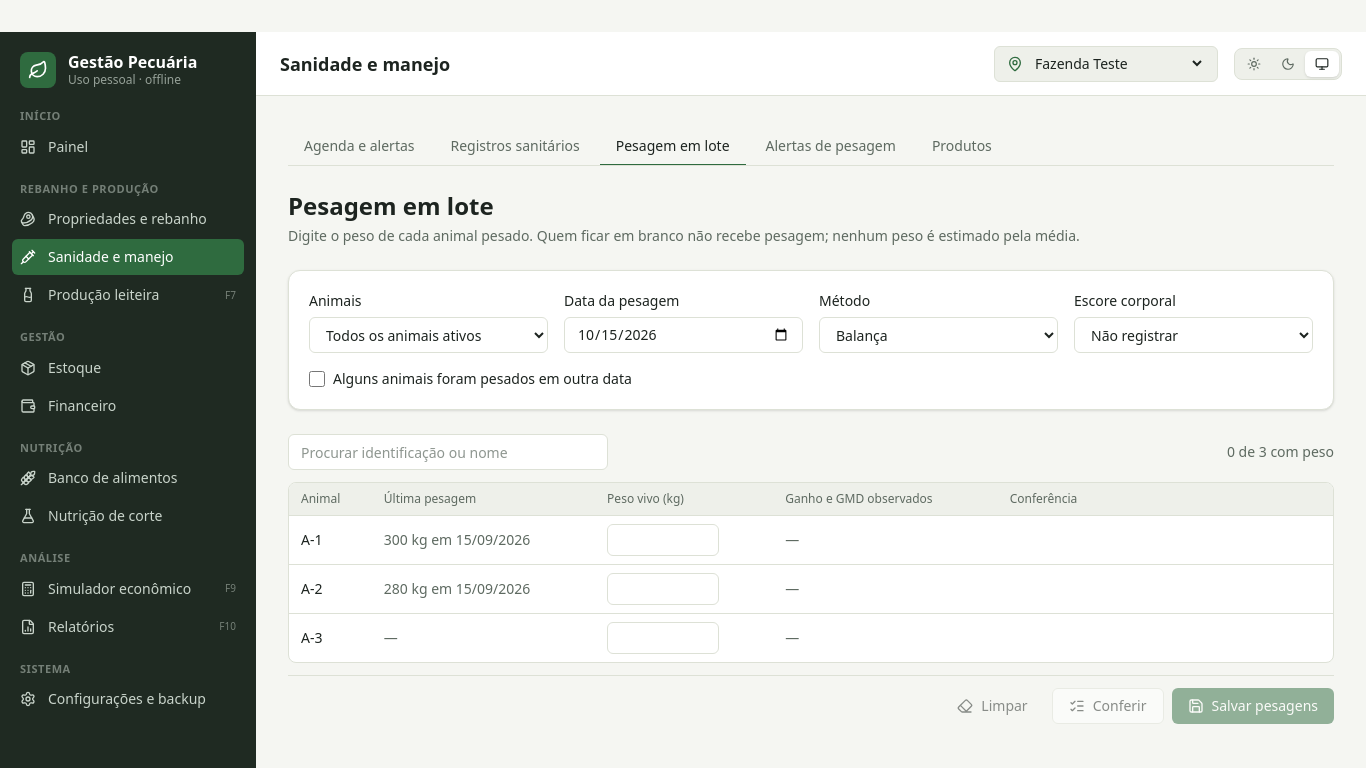
Test case: pesagem em lote › recusa peso inválido antes de enviar
The image size is (1366, 768).
(page scrolled)
In the field named "Peso de A-2": (663, 589) x1=607 y1=573 x2=719 y2=605, type "1.050"
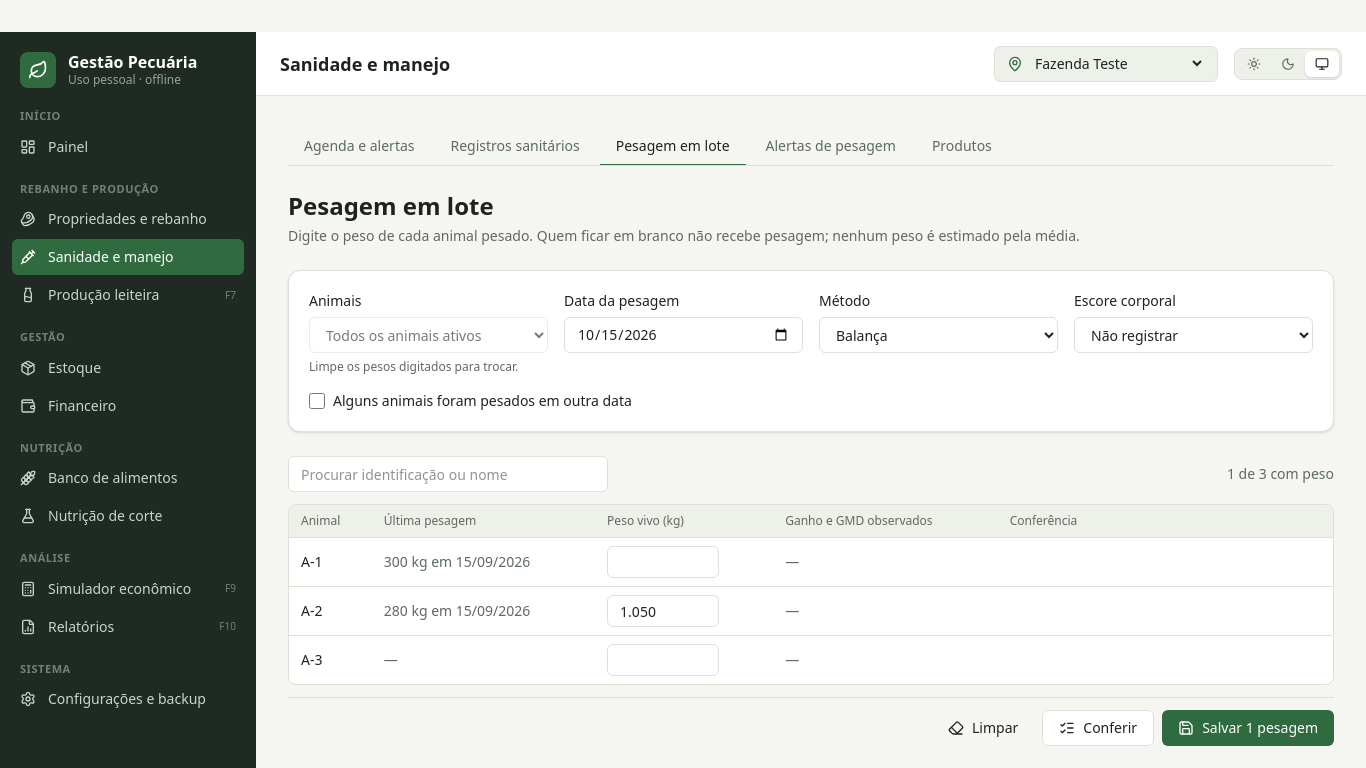
Click the button "Salvar 1 pesagem": (1248, 728) x1=1162 y1=710 x2=1334 y2=746
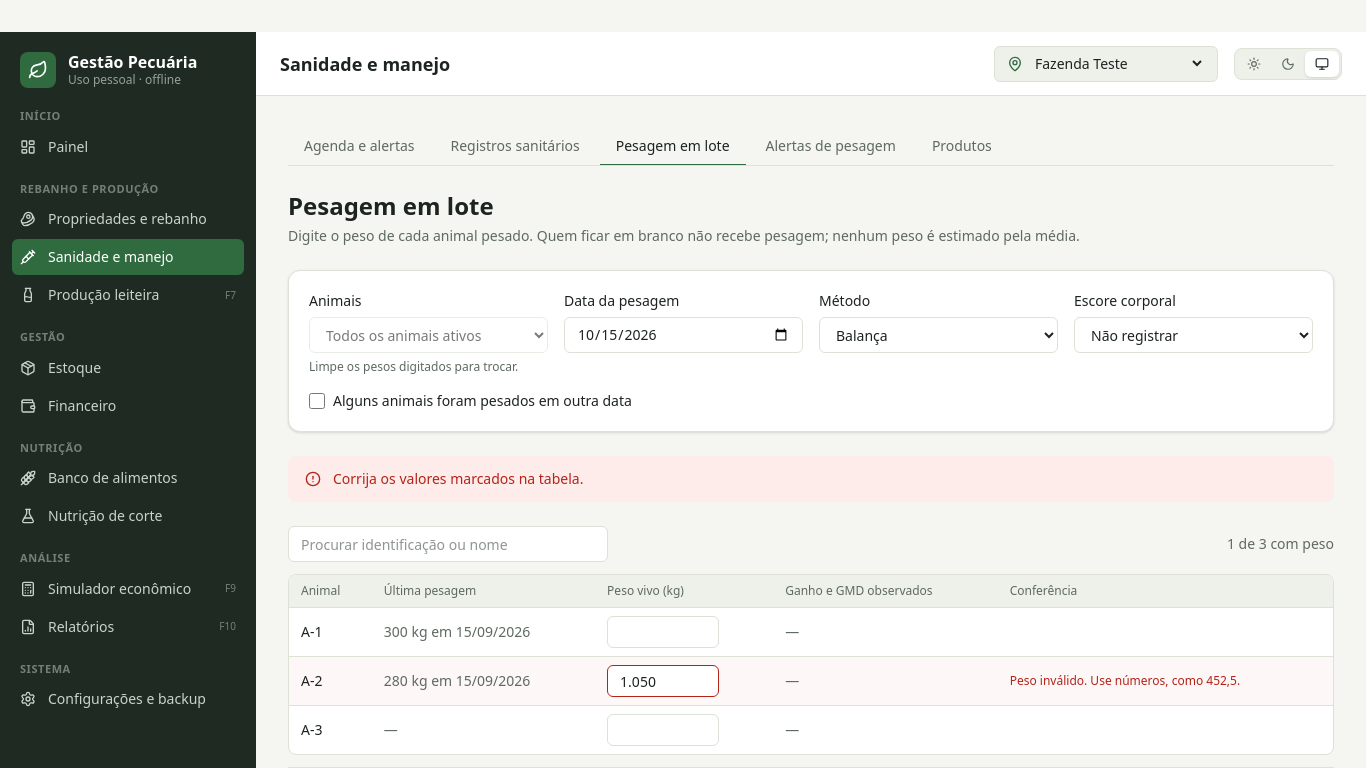
Now the list with test id "erros-A-2" shows "Peso inválido", box x1=1010 y1=672 x2=1240 y2=689
